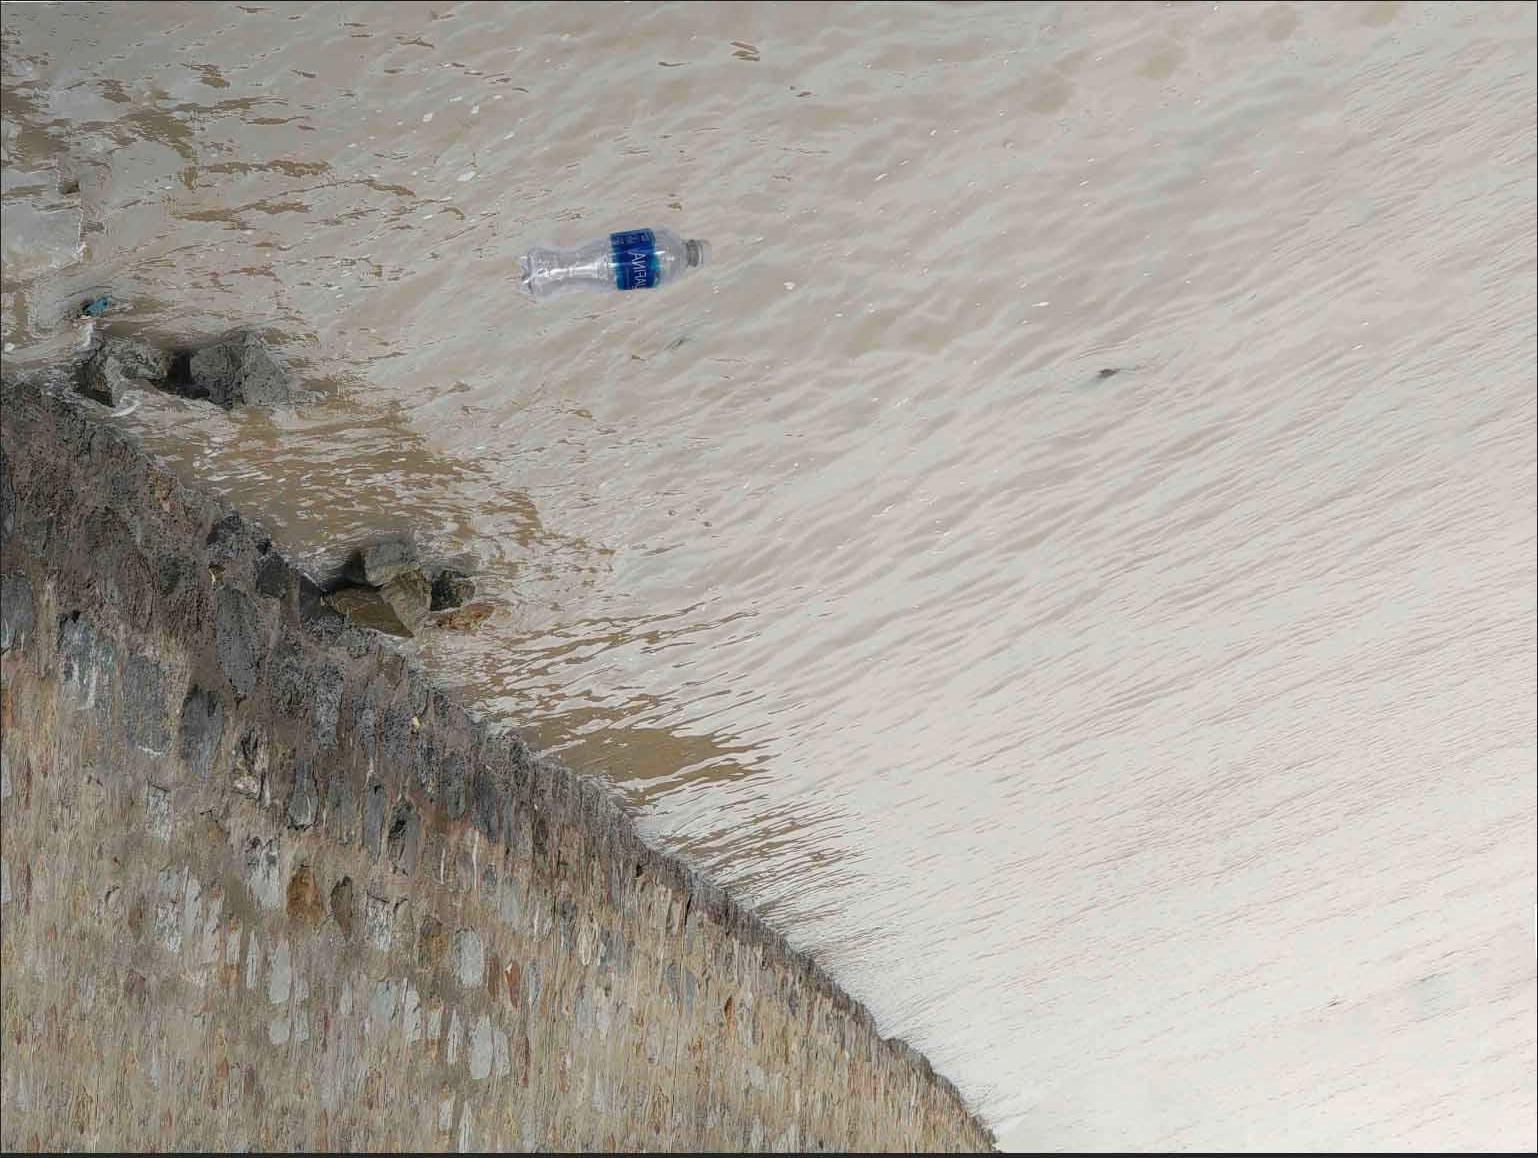Plastic: (519, 224, 723, 305)
